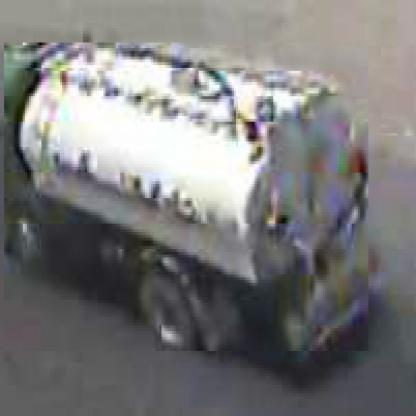truck: (5, 43, 372, 355)
